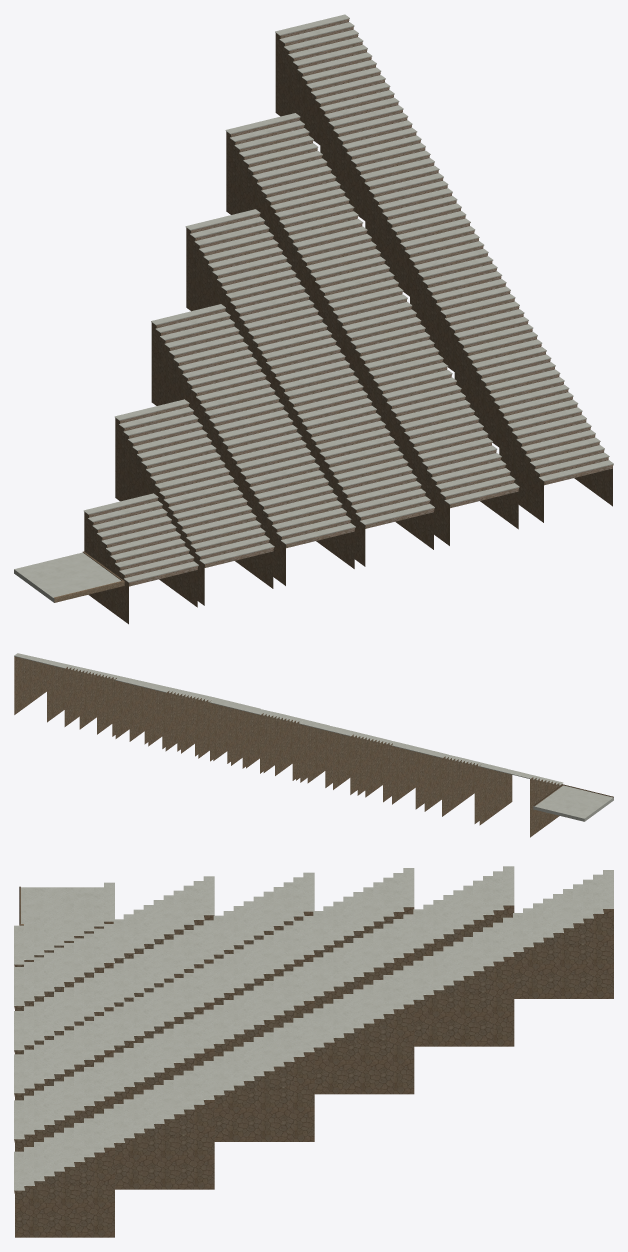
File: OutSideStairs_V1.fbx
3 renders of one model, top to bottom at view 1: azimuth 30°, elevation 25°; view 2: azimuth 150°, elevation 25°; view 3: azimuth 270°, elevation 25°, orthographic. The views are drawn at different scales.
Visible parts, largest first — view 1: OutSideStairs_001_7, OutSideStairs_001_6, OutSideStairs_001_4, OutSideStairs_001_3, OutSideStairs_001_2, OutSideStairs_001, OutSideStairs_Rest_001; view 2: OutSideStairs_001_7, OutSideStairs_001_6, OutSideStairs_001_4, OutSideStairs_001_3, OutSideStairs_001_2, OutSideStairs_001, OutSideStairs_Rest_001; view 3: OutSideStairs_001_7, OutSideStairs_001_6, OutSideStairs_001_4, OutSideStairs_001_3, OutSideStairs_001_2, OutSideStairs_001, OutSideStairs_Rest_001.
Boxes of the visible parts, <box> form: OutSideStairs_001_7: <box>275,14,613,522</box>; OutSideStairs_001_6: <box>225,113,519,545</box>; OutSideStairs_001_4: <box>185,209,434,566</box>; OutSideStairs_001_3: <box>151,304,355,585</box>; OutSideStairs_001_2: <box>114,399,274,605</box>; OutSideStairs_001: <box>83,493,198,624</box>; OutSideStairs_Rest_001: <box>14,551,124,602</box>; OutSideStairs_001_7: <box>14,653,260,763</box>; OutSideStairs_001_6: <box>115,677,329,780</box>; OutSideStairs_001_4: <box>209,699,390,795</box>; OutSideStairs_001_3: <box>300,721,446,809</box>; OutSideStairs_001_2: <box>391,742,505,823</box>; OutSideStairs_001: <box>479,763,563,837</box>; OutSideStairs_Rest_001: <box>533,784,613,821</box>; OutSideStairs_001_7: <box>14,870,613,1237</box>; OutSideStairs_001_6: <box>14,866,514,1151</box>; OutSideStairs_001_4: <box>14,868,414,1100</box>; OutSideStairs_001_3: <box>14,872,314,1054</box>; OutSideStairs_001_2: <box>14,876,214,1010</box>; OutSideStairs_001: <box>14,882,114,966</box>; OutSideStairs_Rest_001: <box>19,886,93,925</box>.
Size of the model in its own units: 1.13 by 0.572 by 0.9435.
